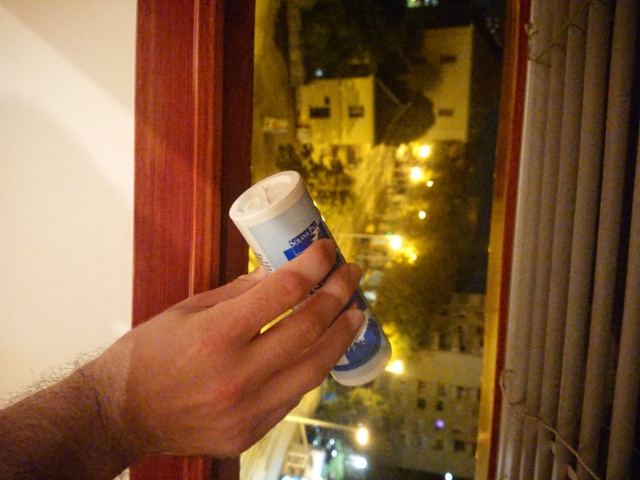Solana Pag Fine Sea Salt 250g: (225, 167, 394, 390)
